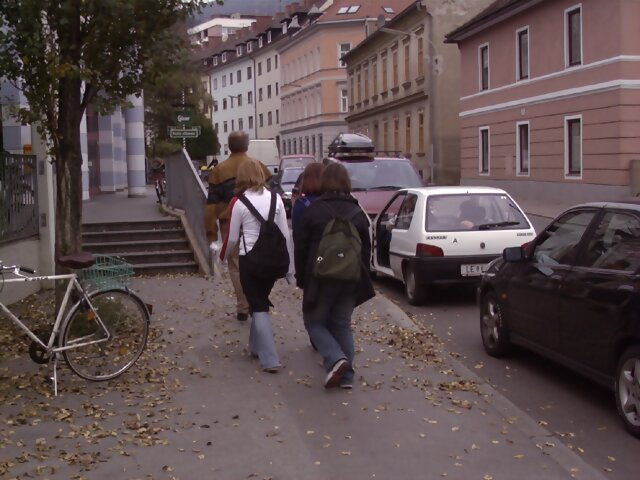person: (295, 161, 382, 389), (222, 158, 292, 373), (202, 129, 261, 318)
